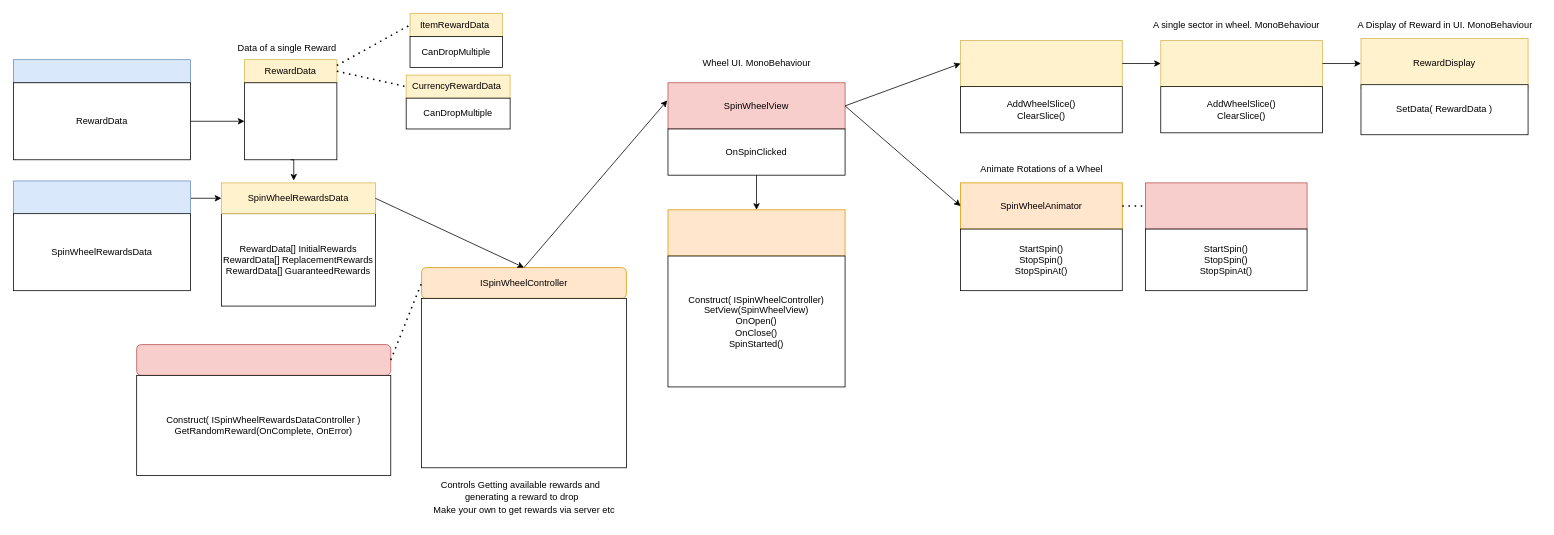
Some shapes in this 1554 by 535 pixel diagram are drawn without their labels. The shapes that lost their labels are listed below. From the top down, each one's centre as x and y in pixels, then its label:
At pixel 102 71: "RewardDataEnity : ScriptableObj".
At pixel 1041 63: "WheelSlicesAdapter".
At pixel 1241 63: "SpinWheelSlice".
At pixel 290 121: "Id Display Name Icon".
At pixel 102 198: "RewardDataListHolder : ScriptableObj".
At pixel 1226 205: "BaseSpinWheelAnimator".
At pixel 756 232: "ISpinWheelPresenter".
At pixel 263 359: "RandomSpinWheelController".
At pixel 523 383: "Construct (SpinWheelRewardsData) TakeReward".
